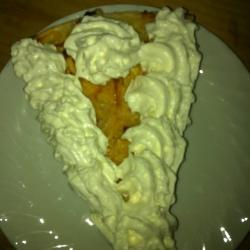apple_pie: (29, 12, 186, 194)
